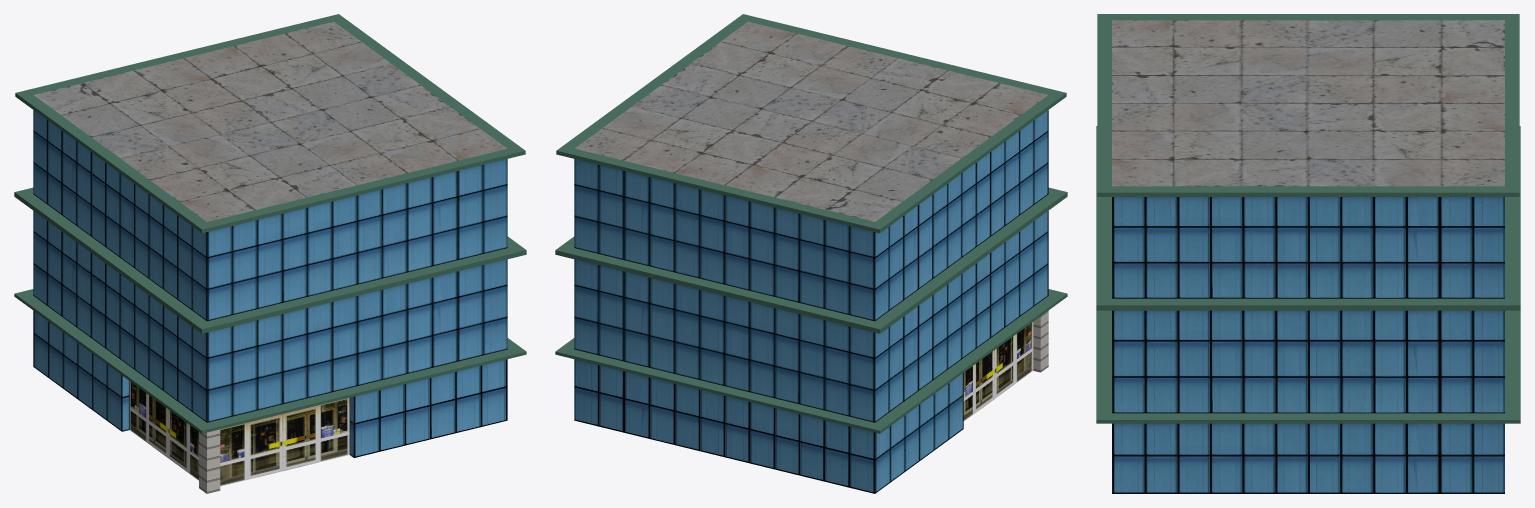
Rendered from building19.FBX.
3 renders of one model, left to right at view 1: azimuth 30°, elevation 25°; view 2: azimuth 150°, elevation 25°; view 3: azimuth 270°, elevation 25°, orthographic. The views are drawn at different scales.
Visible parts, largest first — view 1: building19; view 2: building19; view 3: building19.
Part boxes in pixels (<box>): building19: <box>14,14,526,493</box>; building19: <box>555,14,1067,493</box>; building19: <box>1096,14,1520,493</box>.
Size of the model in its own units: 130 by 104 by 130.
